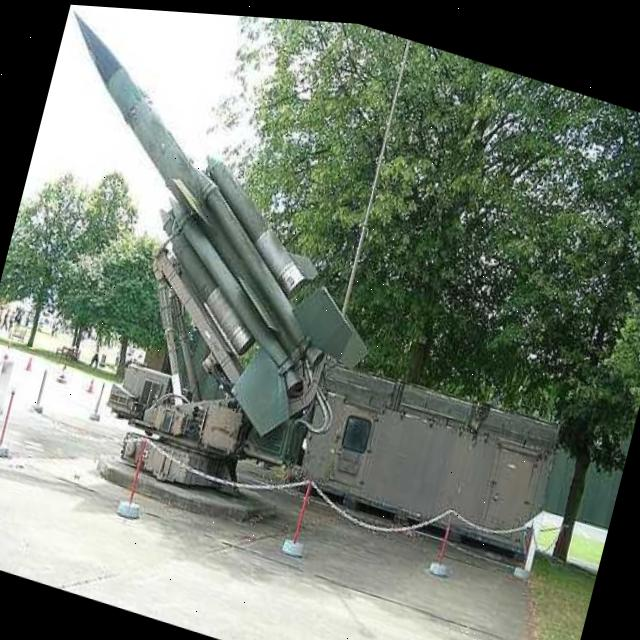missile: (0, 5, 415, 451)
